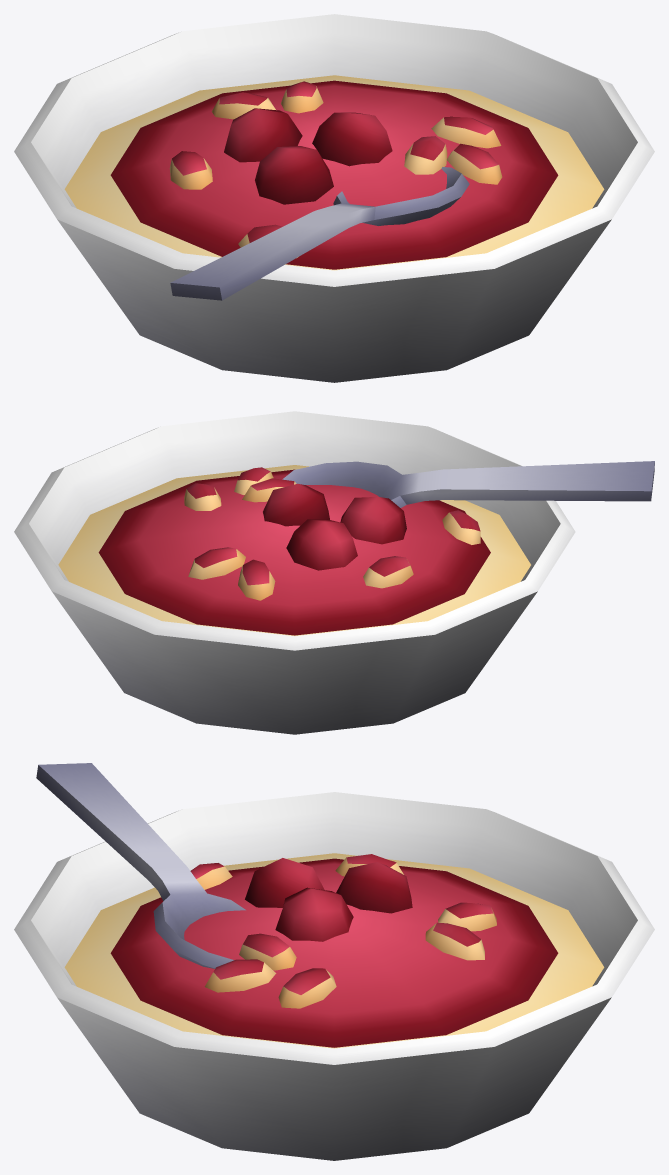
File: m_RicePudding04_Cherry.fbx
The picture shows the model from 3 angles, top to bottom: view 1: azimuth 30°, elevation 25°; view 2: azimuth 150°, elevation 25°; view 3: azimuth 270°, elevation 25°; orthographic projection. The views are drawn at different scales.
Visible parts, largest first — view 1: m_RicePudding04_Cherry; view 2: m_RicePudding04_Cherry; view 3: m_RicePudding04_Cherry.
Part boxes in pixels (<box>): m_RicePudding04_Cherry: <box>14,14,654,382</box>; m_RicePudding04_Cherry: <box>14,411,654,734</box>; m_RicePudding04_Cherry: <box>14,763,654,1160</box>.
Bounding box in the file's own units: 20.24 × 6.22 × 19.96.
